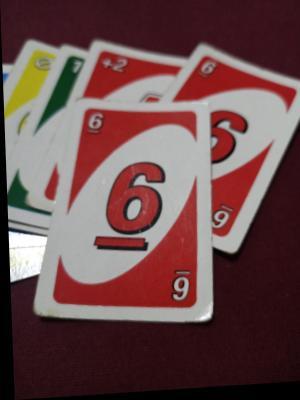-2: (95, 53, 136, 81)
num_1: (66, 54, 88, 78)
num_6: (204, 96, 252, 179), (207, 199, 235, 240), (81, 109, 109, 141), (197, 58, 221, 87)
skip: (33, 50, 55, 76)
